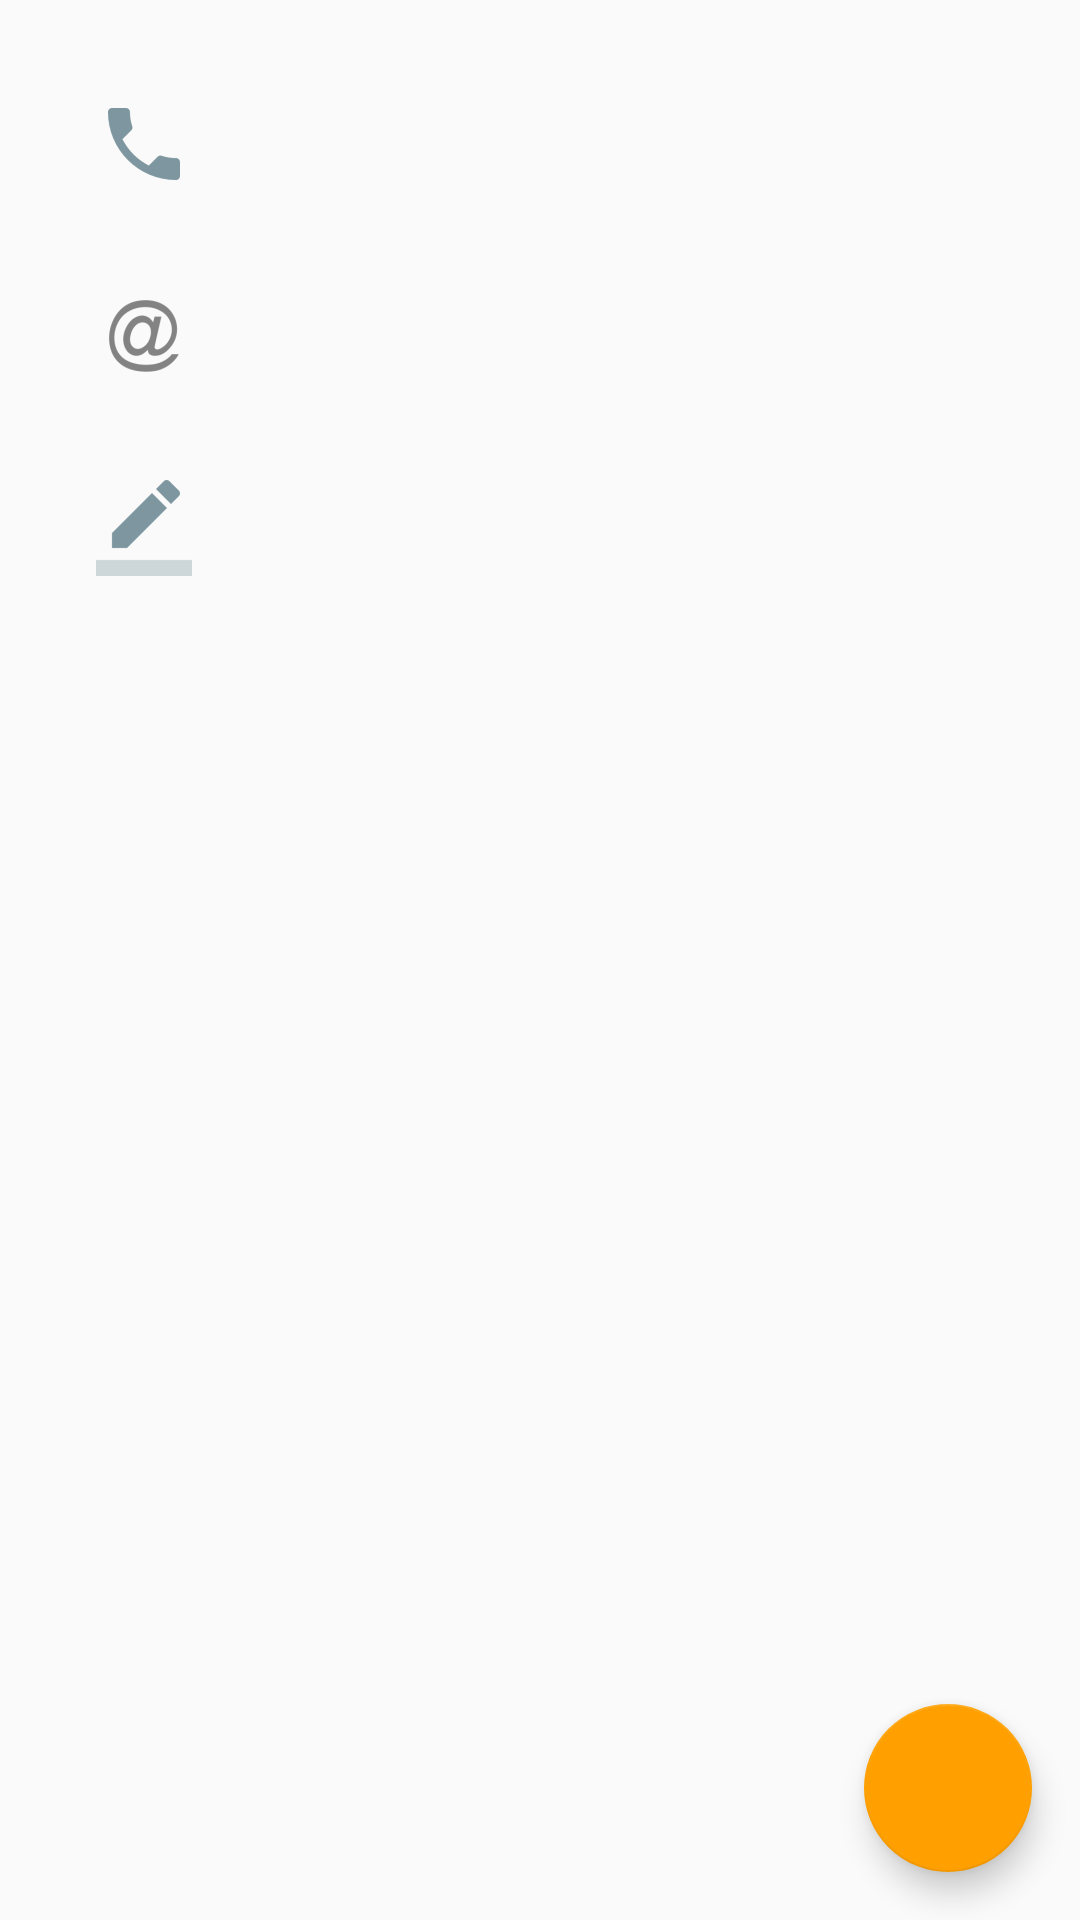

Where icons sit on this 1080x1920 app screen, as (x1, y1, x2, y2):
email: (109, 300, 179, 372)
note: (96, 480, 192, 576)
phone: (108, 108, 180, 180)
